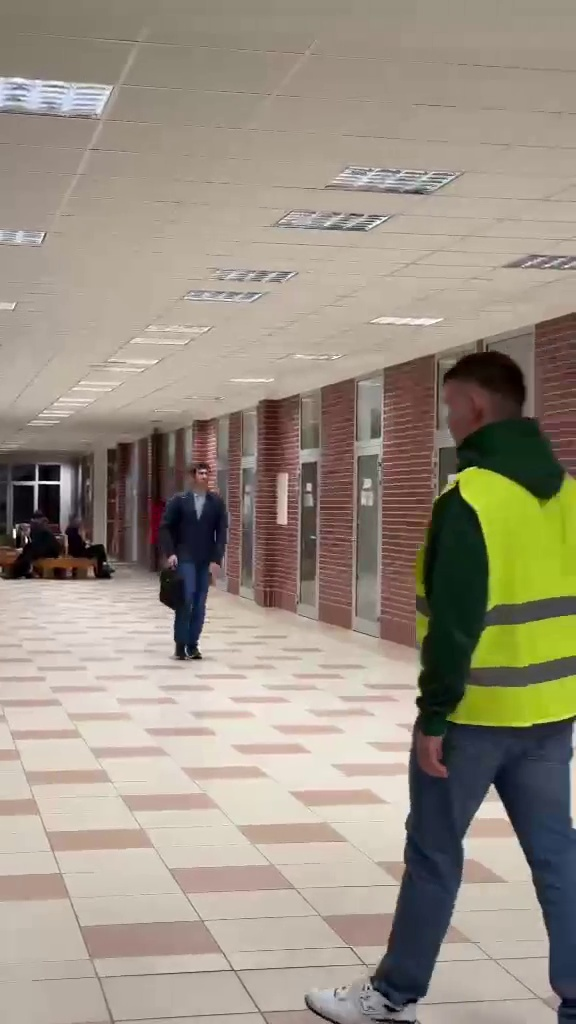no vest: (146, 448, 236, 655)
vest: (340, 346, 576, 1024)
